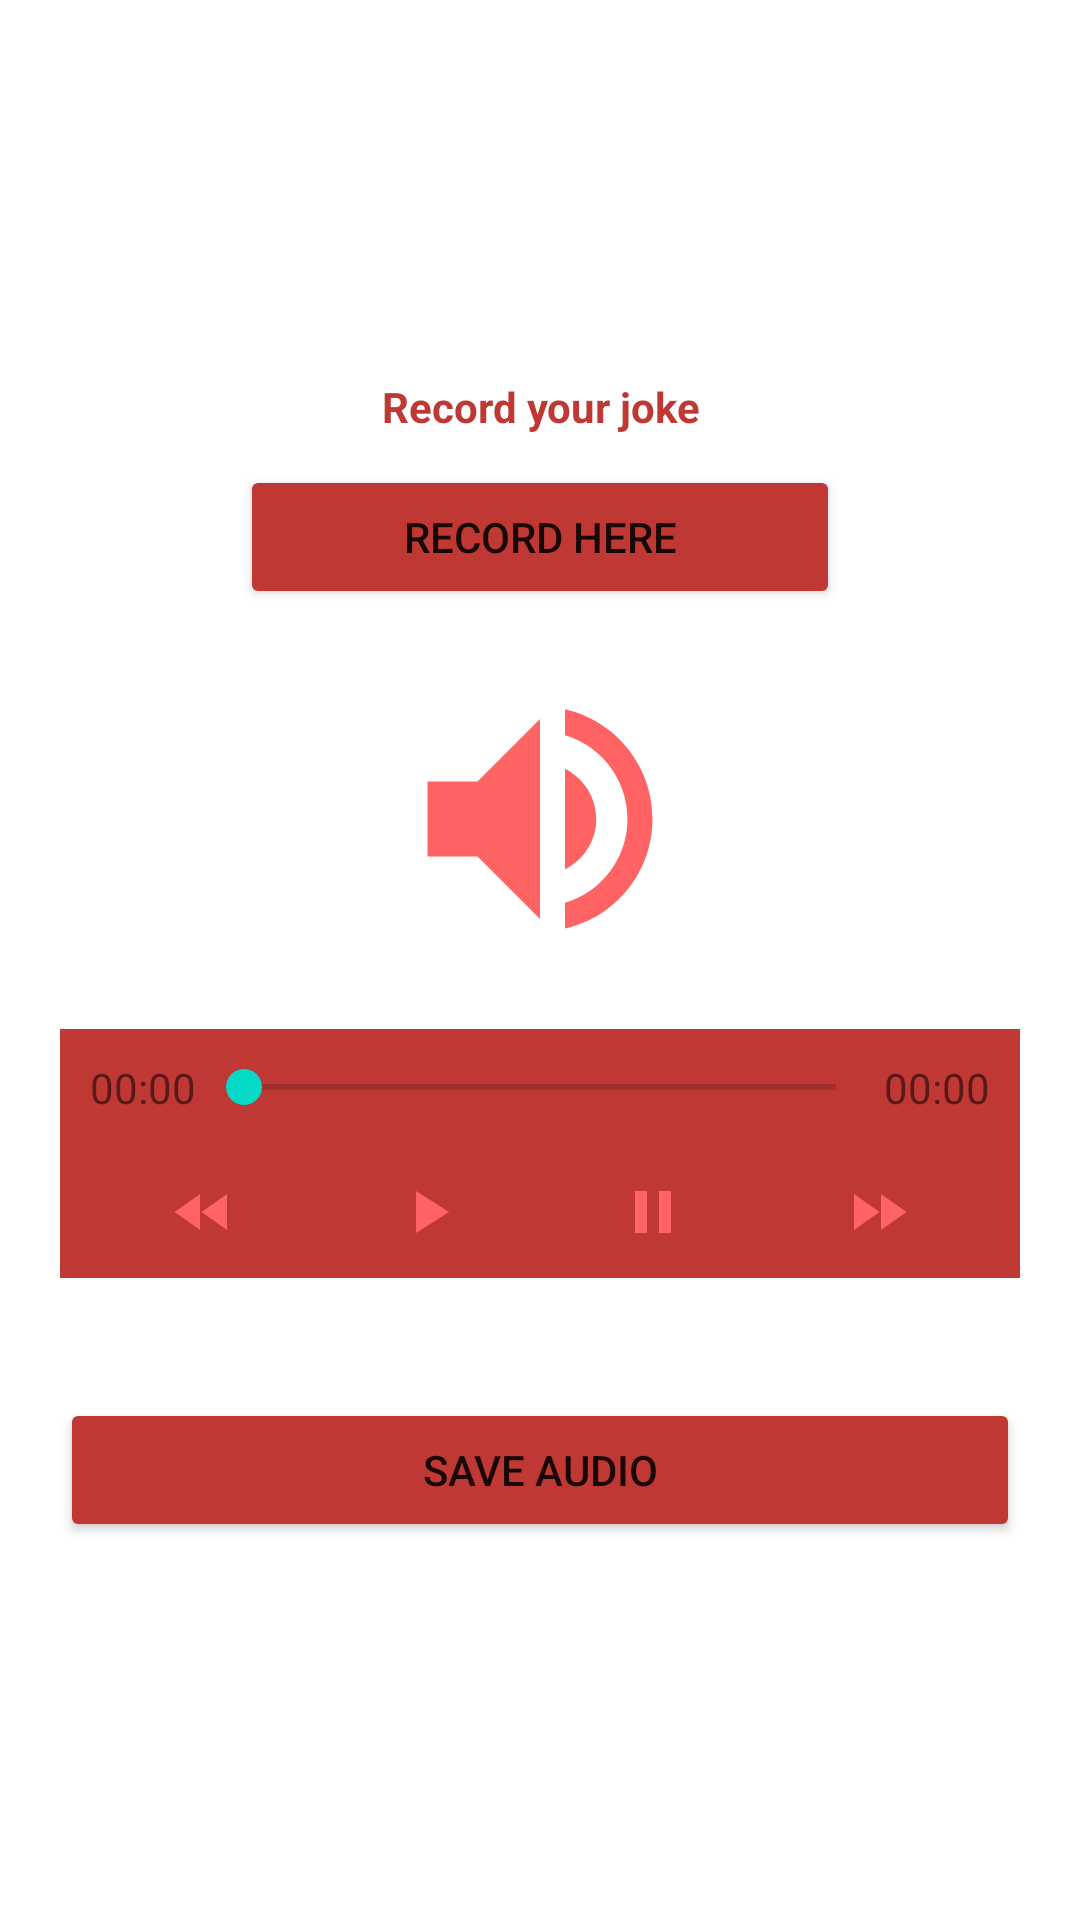

Icons on this 1080*1920 Android screen, each with the point to tap as [x,y]:
fast forward: [880,1212]
fast rewind: [201,1212]
pause: [653,1212]
play arrow: [432,1212]
volume up: [540,819]
